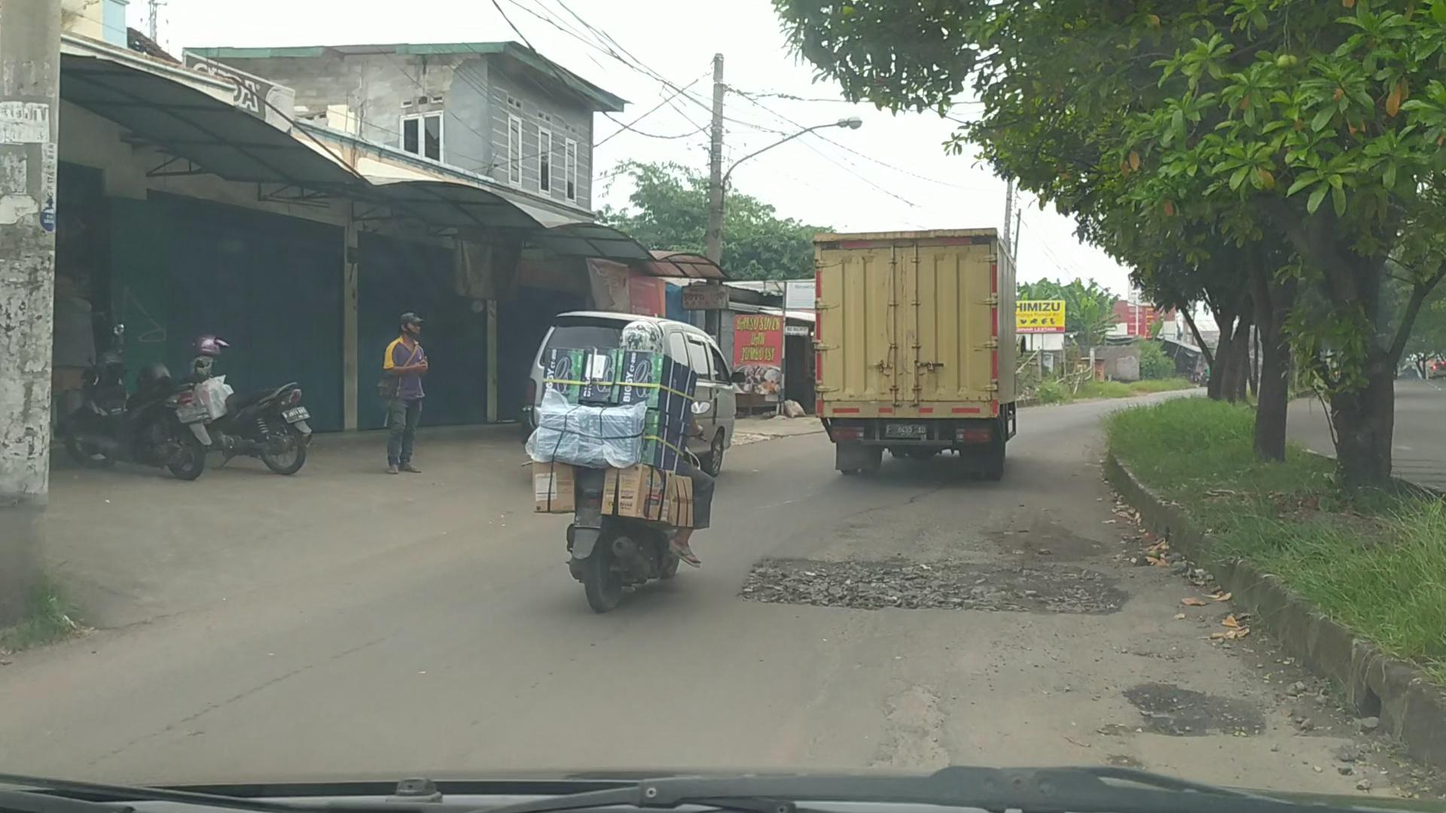pothole: (740, 550, 1128, 618), (1103, 683, 1266, 736)
